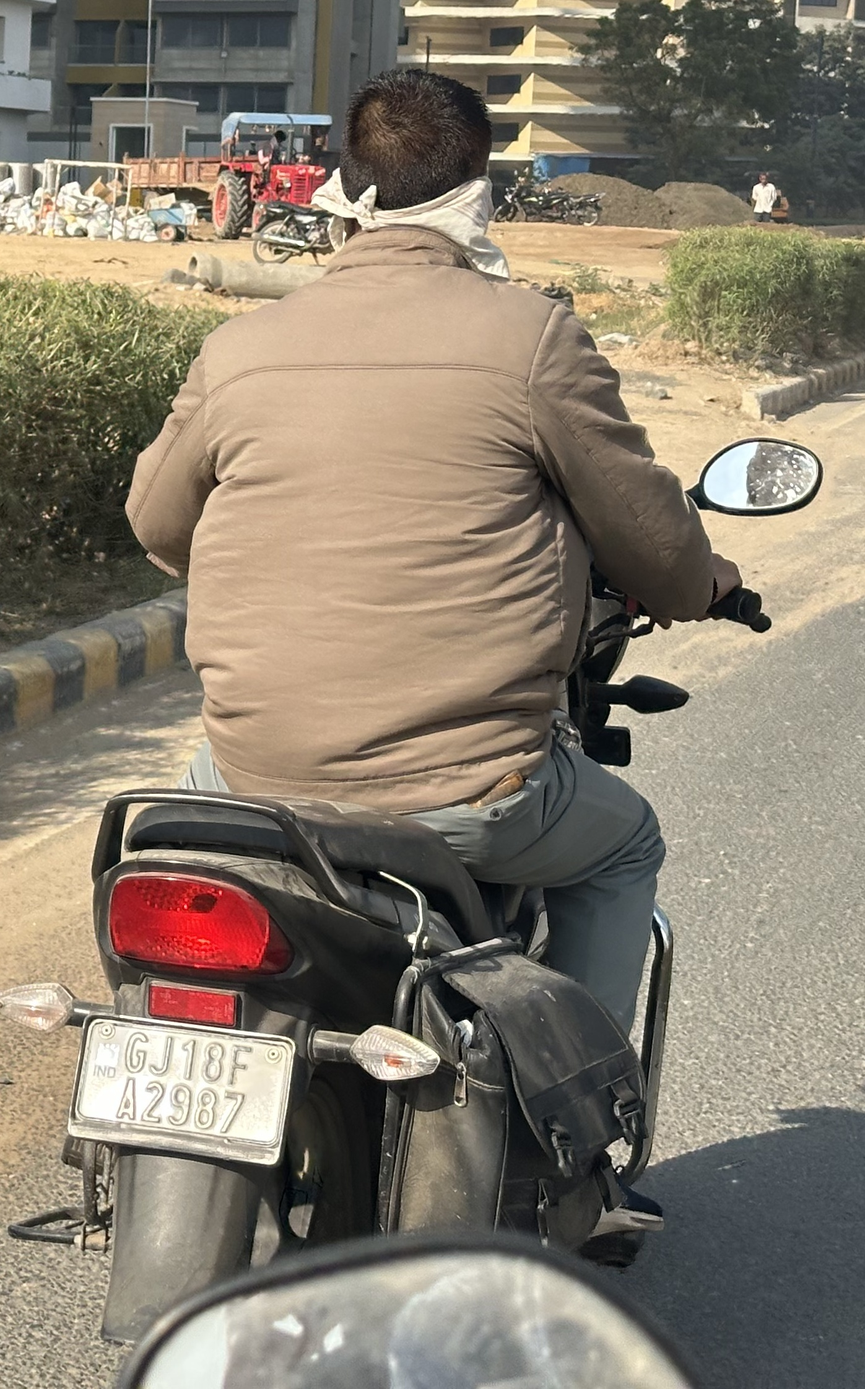BikeWithRider: (3, 57, 865, 1368)
NoHelmet: (302, 63, 546, 292)
